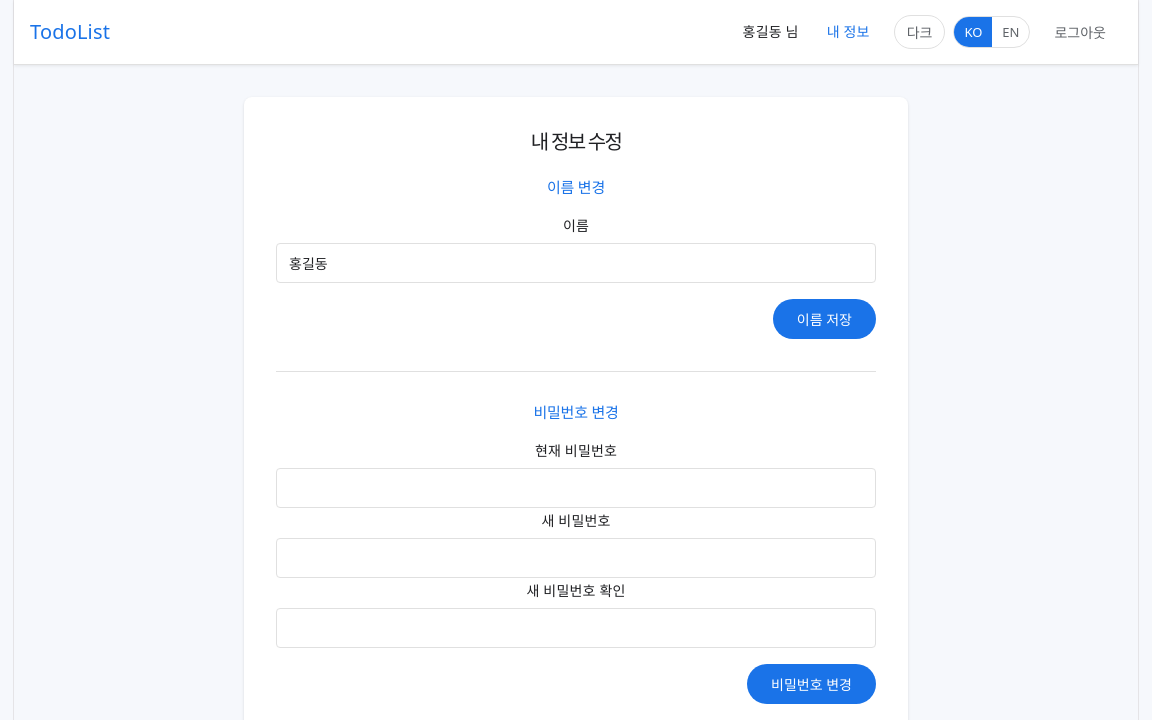
Test: ProfilePage › 이름이 비어있을 때 이름 저장 버튼이 비활성화된다
This screenshot has width=1152, height=720.
Clear the field labelled "이름" at (576, 263), box [276,243,876,283]
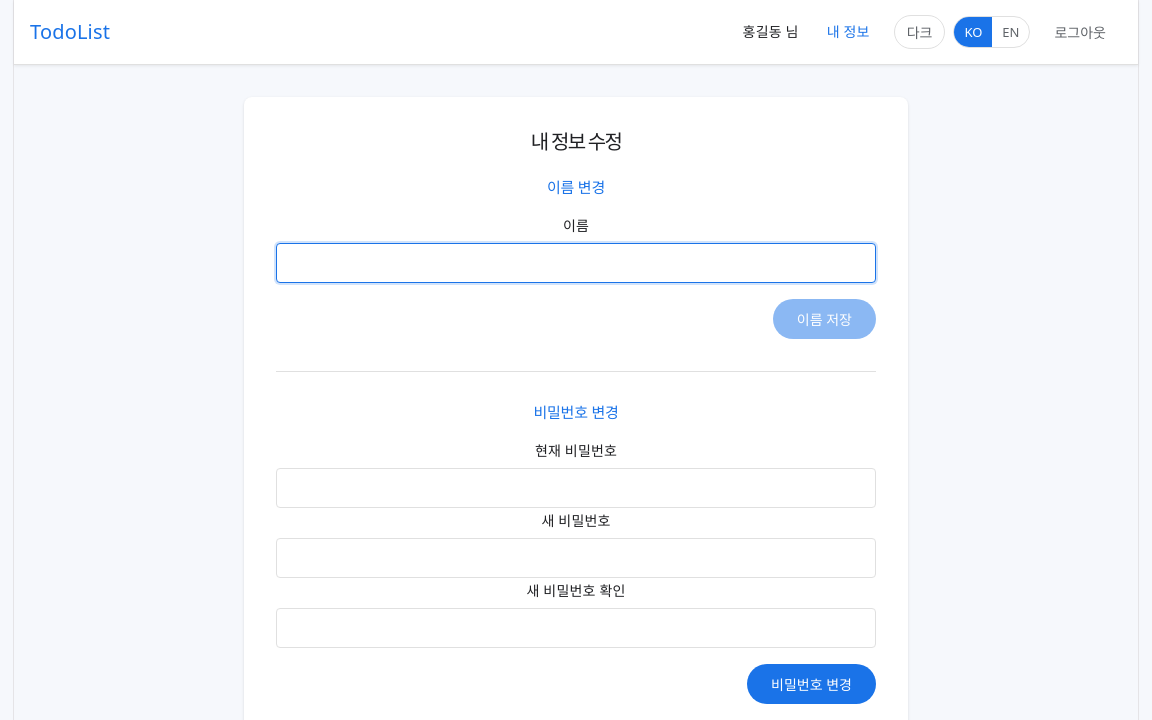
Now the button "이름 저장" is disabled, box [773,299,876,339]
